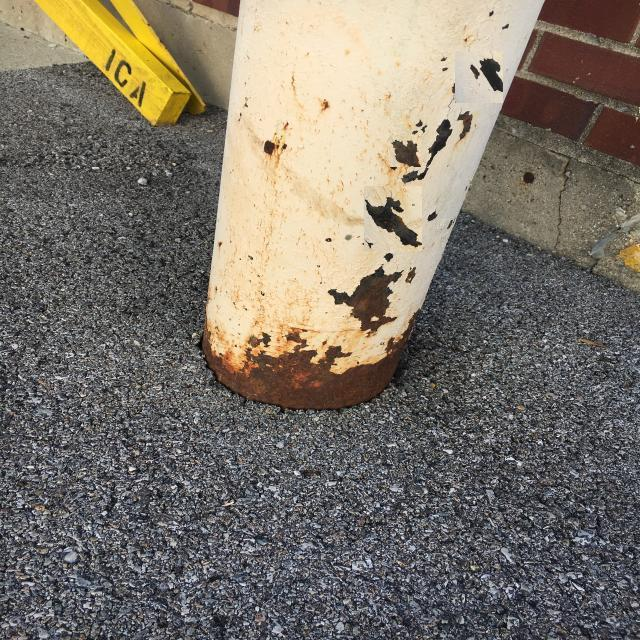Corrosion: (204, 318, 414, 410), (329, 266, 403, 332), (366, 197, 423, 246), (419, 119, 452, 180), (481, 58, 505, 92), (393, 140, 421, 166), (458, 111, 474, 138)
